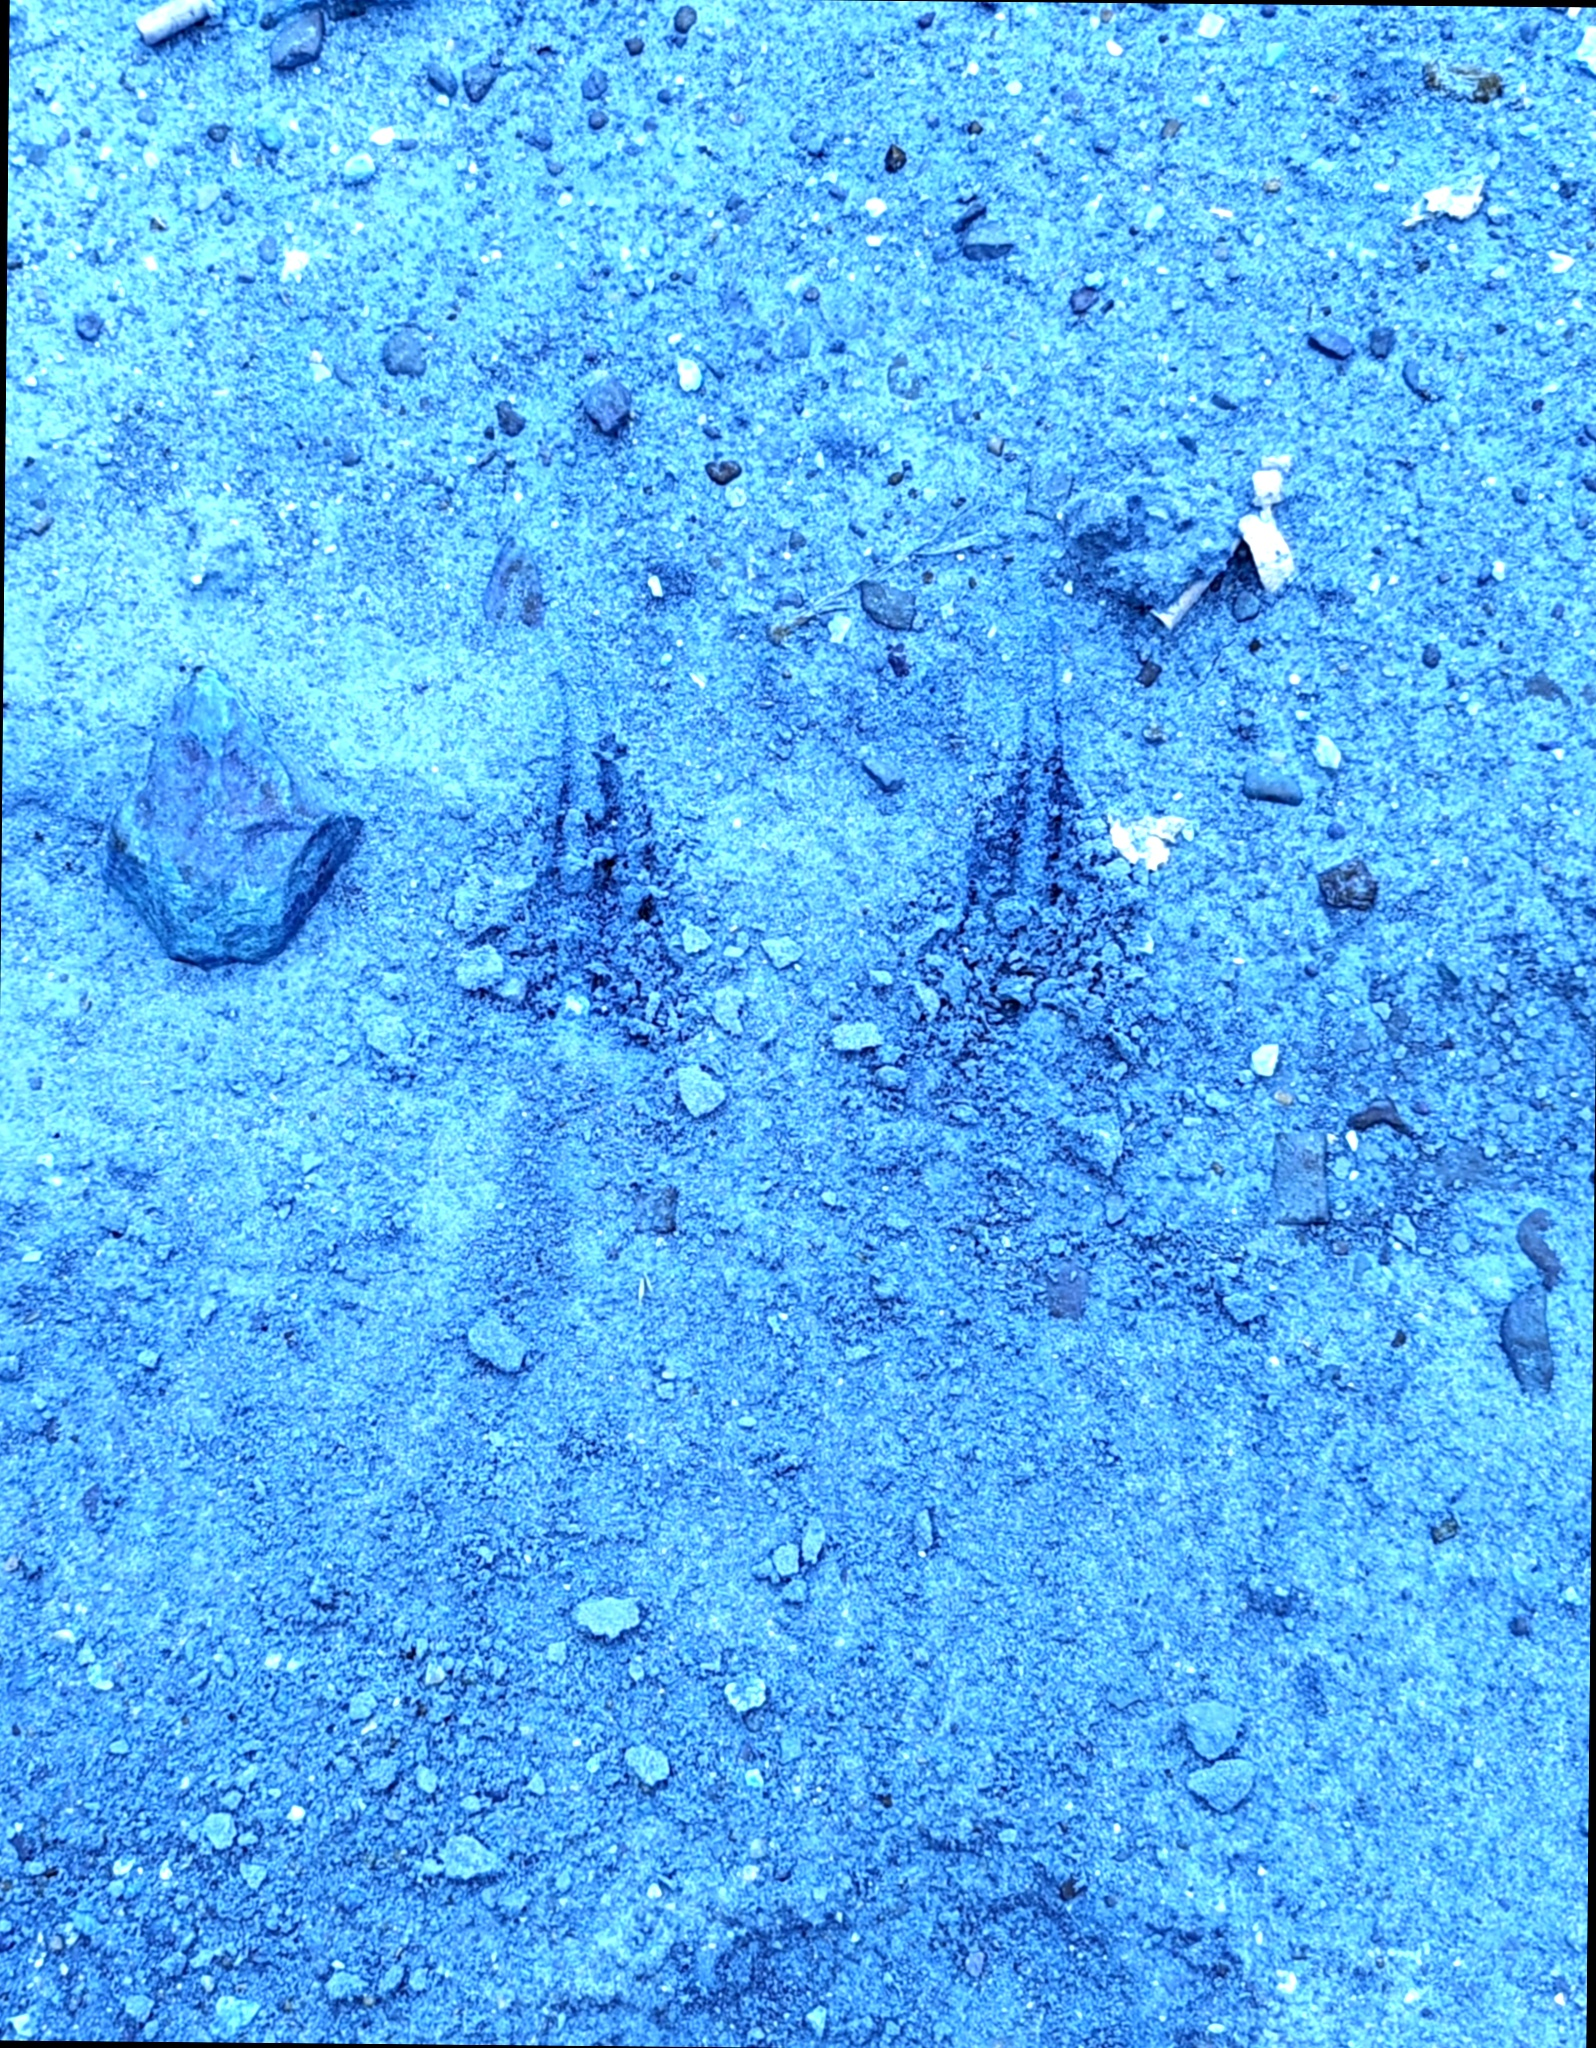lapin: (810, 645, 1270, 1406), (407, 648, 783, 1351)
